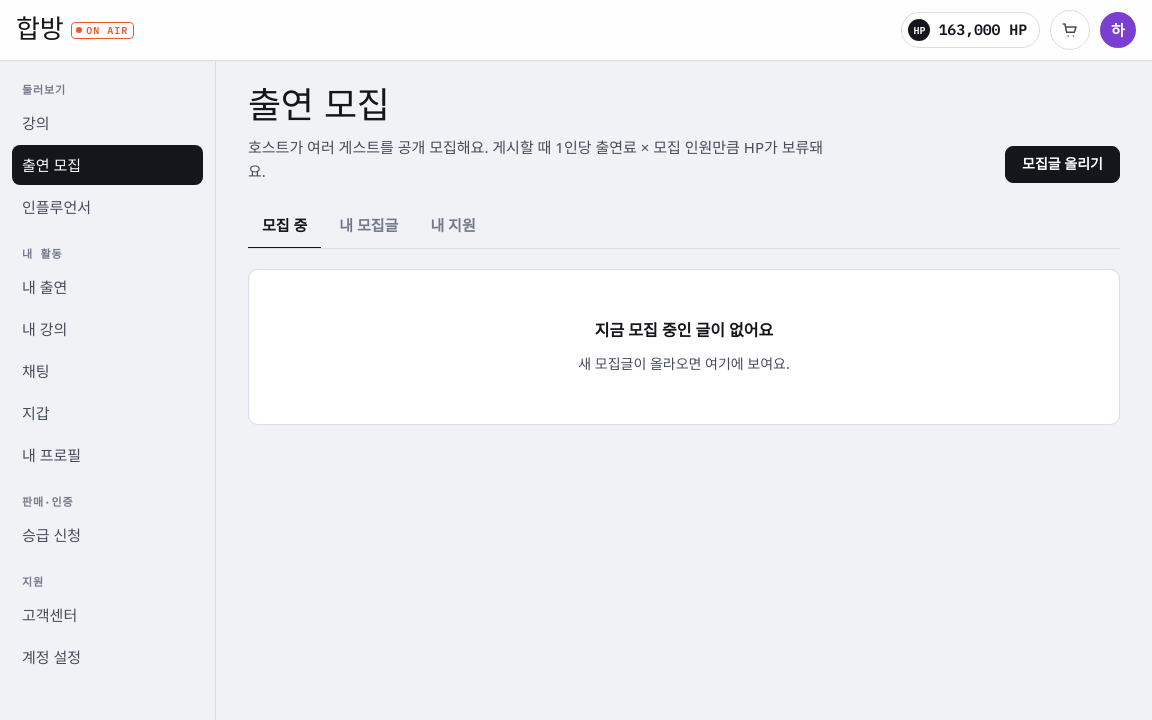
모집글 올리기 › 입력을 검사하고 보류할 HP(출연료 × 인원)를 보여 준다
The width and height of the screenshot is (1152, 720).
Click the button "모집글 올리기" at {"x": 1063, "y": 164}, box [1005,146,1120,183]
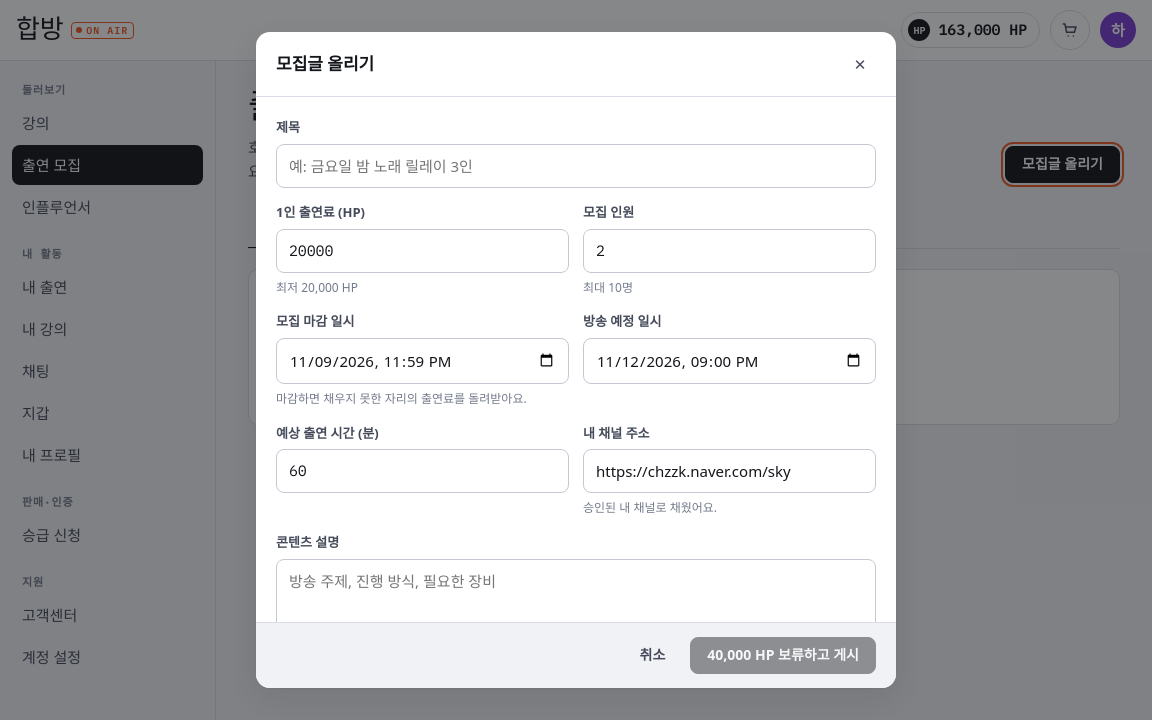
Clear the field labelled "1인 출연료 (HP)" at {"x": 422, "y": 251}, box [276,229,569,273]
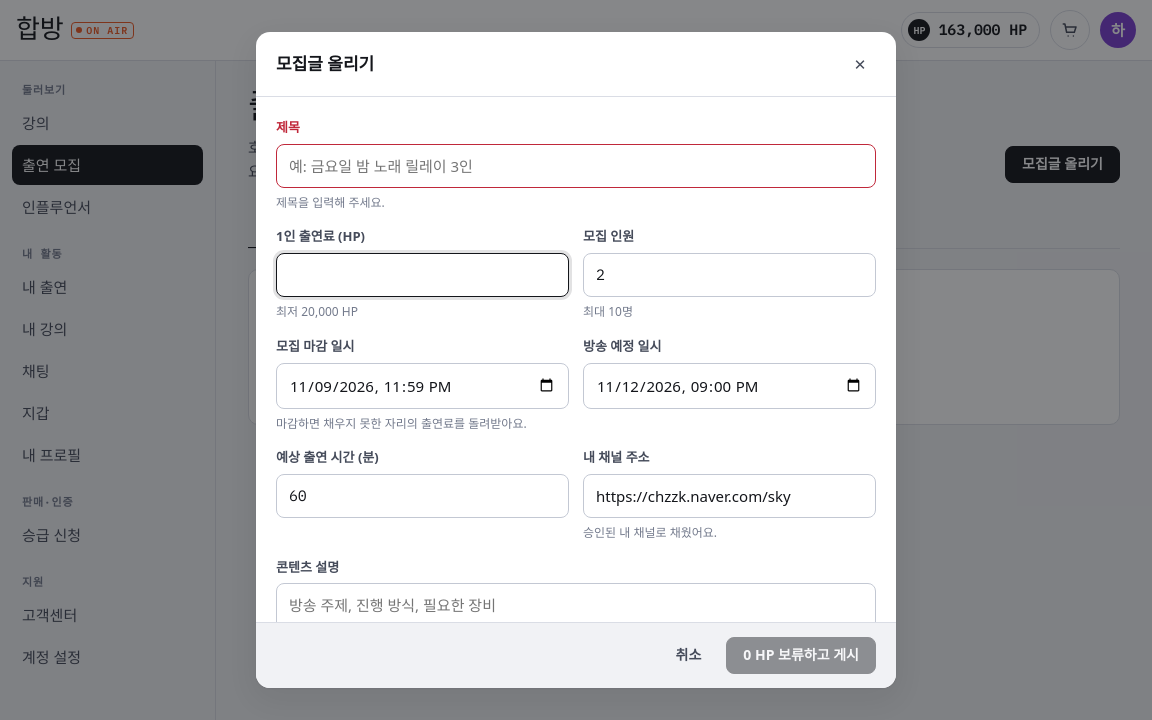
Type "30000" into the field labelled "1인 출연료 (HP)" at {"x": 422, "y": 275}, box [276,253,569,297]
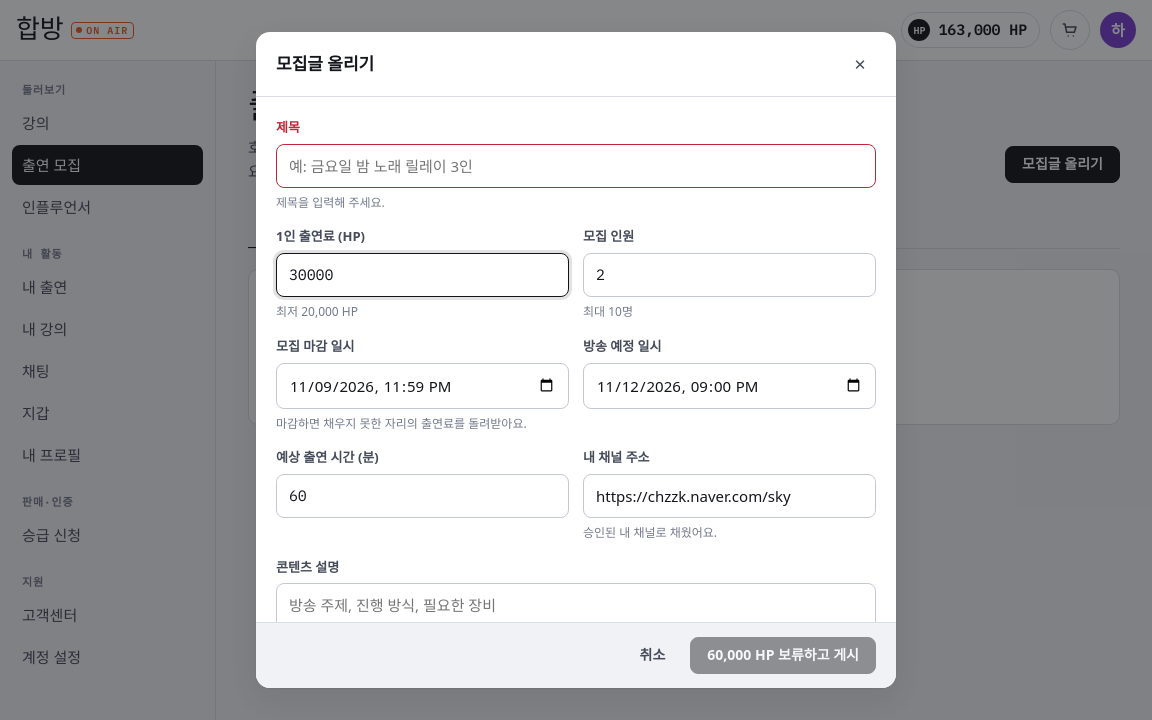
Replace the text in the field labelled "모집 인원" with "3" at {"x": 730, "y": 275}, box [583,253,876,297]
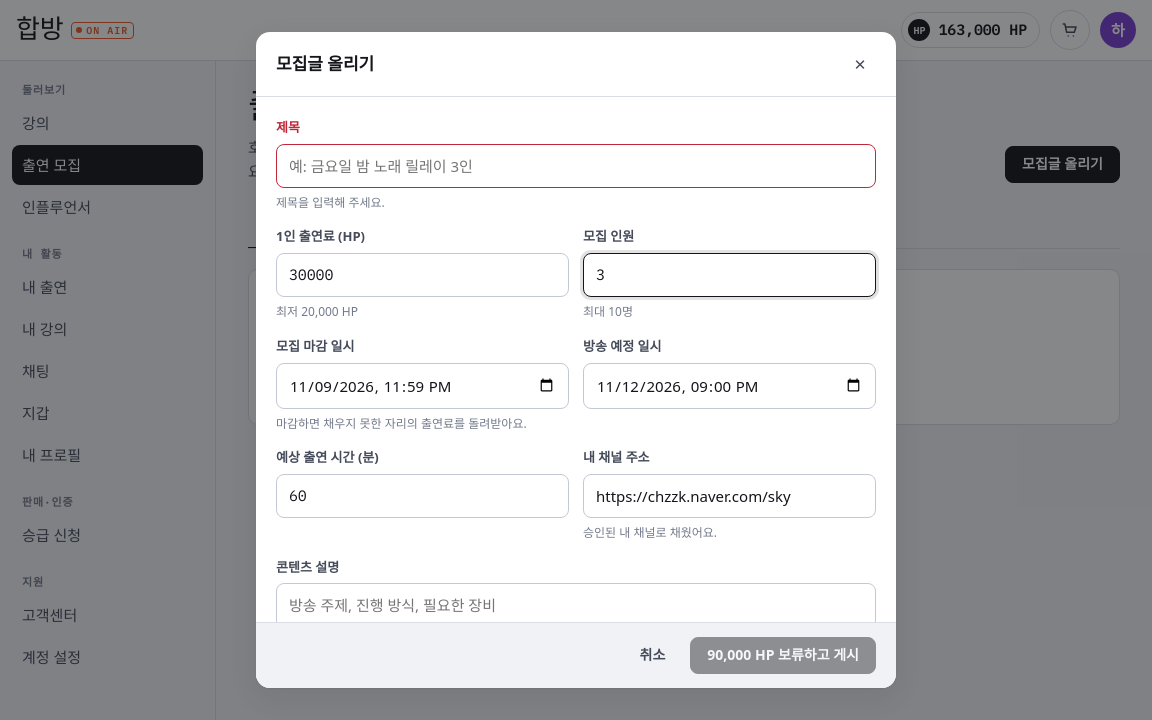
Now the text "마감하면 채우지 못한 자리의 출연료를 돌려받아요." is shown, box [276,415,569,433]
Now the button "90,000 HP 보류하고 게시" is enabled, box [690,637,876,674]
Replace the text in the field labelled "모집 인원" with "11" at {"x": 730, "y": 275}, box [583,253,876,297]
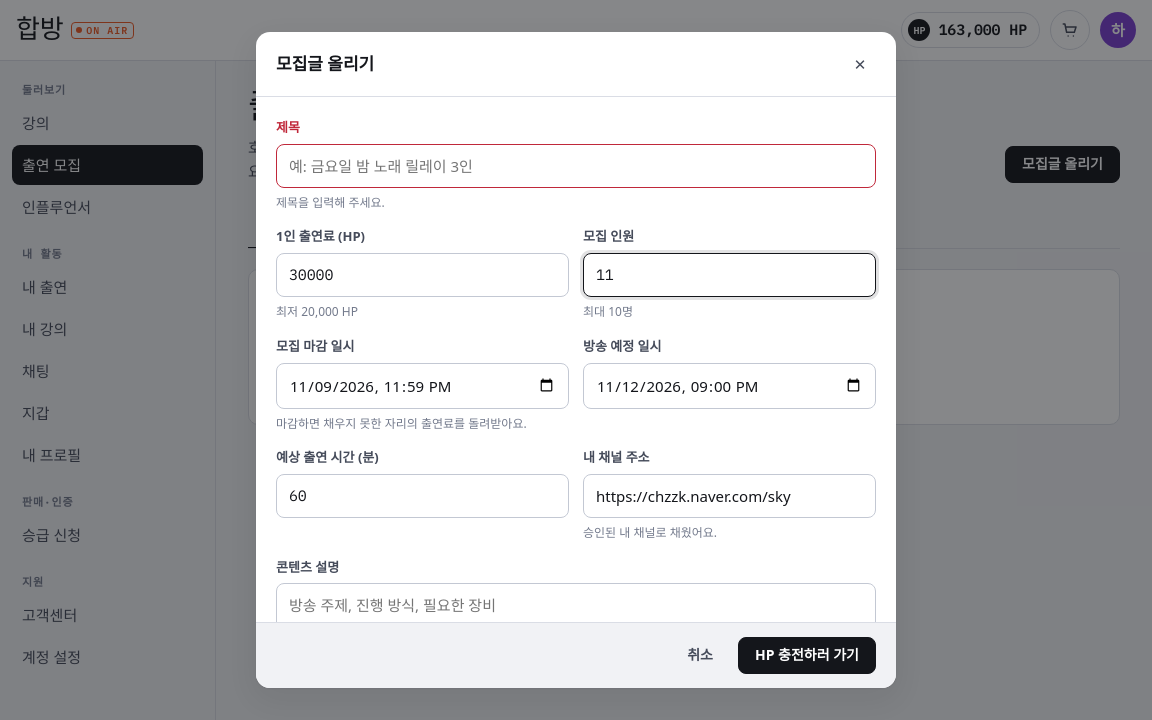
Press Tab
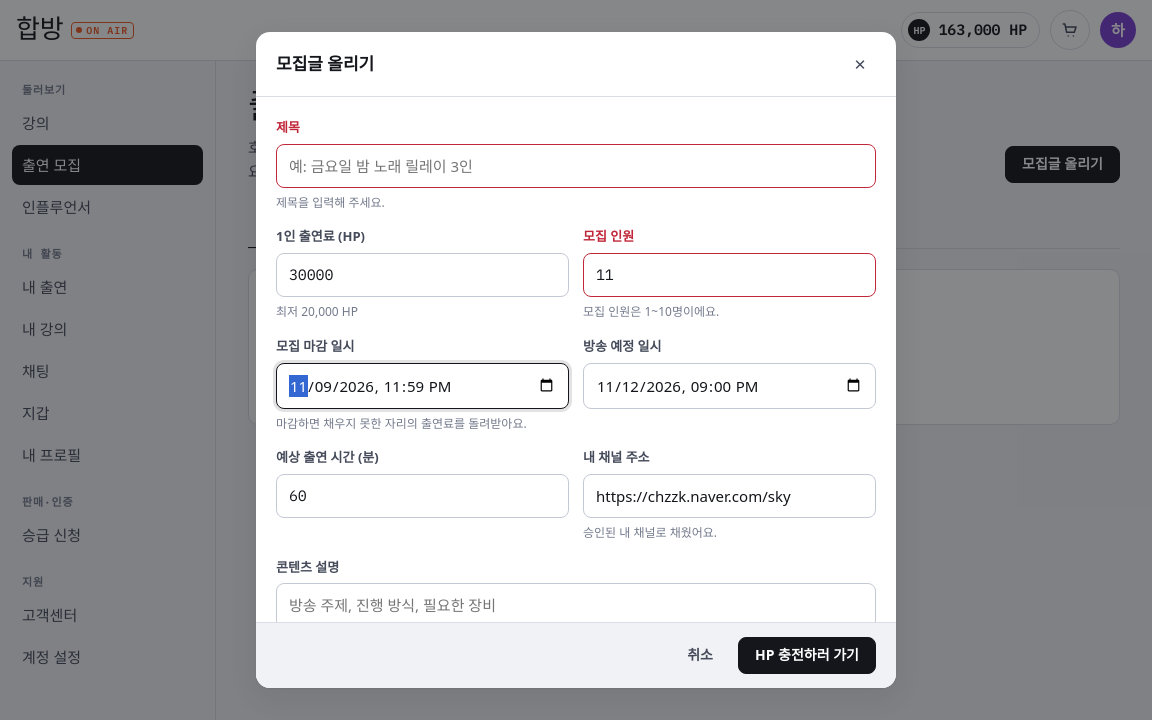
Now the text "모집 인원은 1~10명이에요." is shown, box [583,303,719,320]
